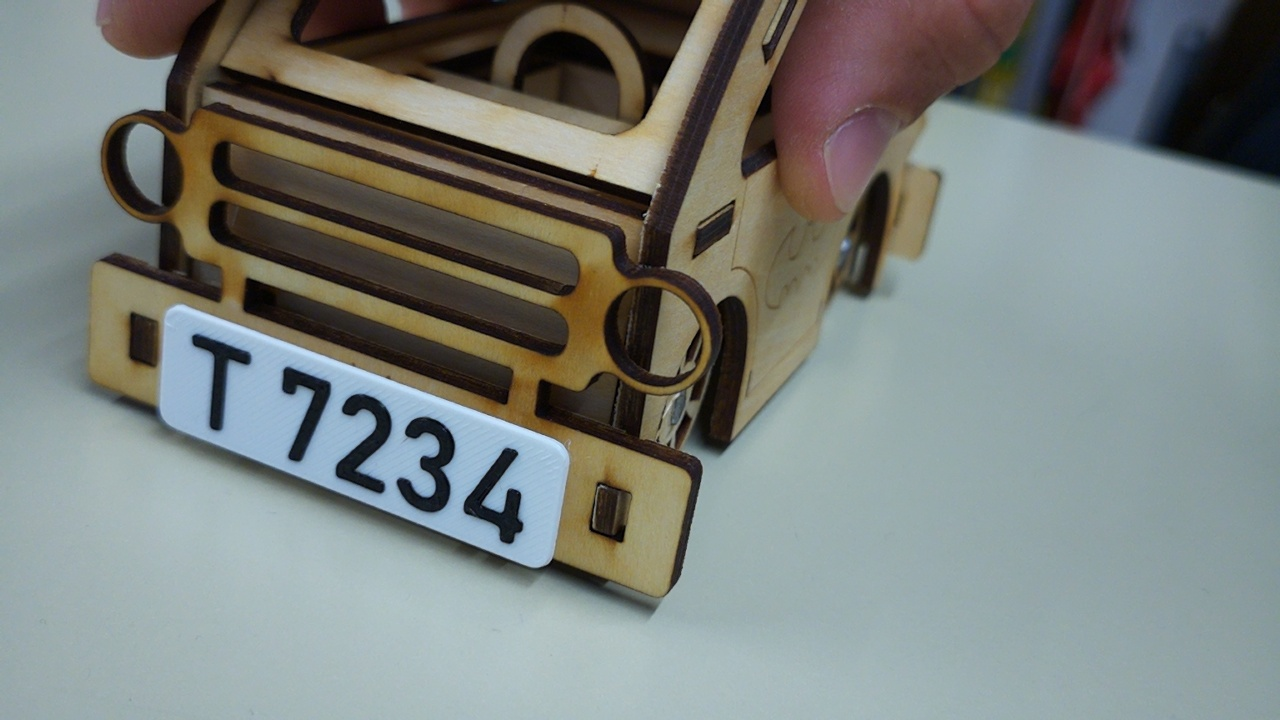license_plate: (157, 302, 573, 572)
